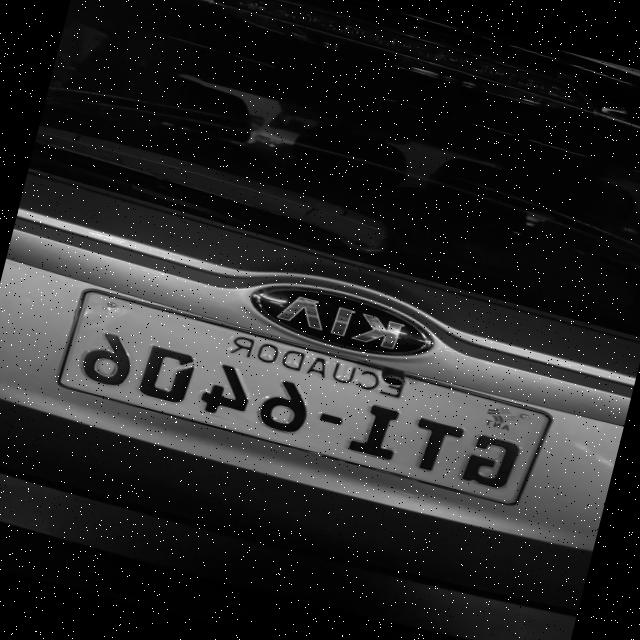Placa: (60, 292, 547, 503)
